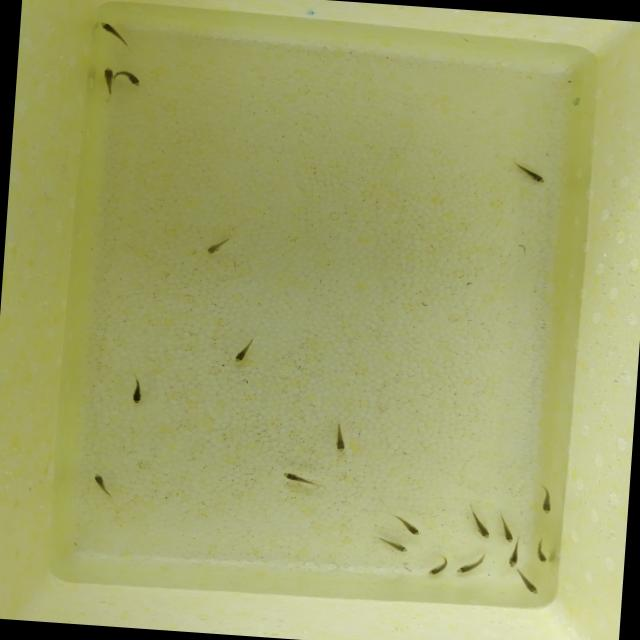fingerling: (449, 549, 493, 576), (98, 18, 136, 48), (508, 162, 552, 185), (280, 468, 322, 492), (230, 334, 256, 368), (202, 232, 235, 258), (422, 551, 450, 579), (514, 571, 542, 599), (392, 515, 426, 538), (332, 420, 352, 457), (468, 508, 491, 540), (126, 374, 148, 406), (538, 483, 557, 516), (501, 508, 517, 546), (504, 536, 522, 569), (531, 538, 552, 566), (373, 537, 411, 552), (125, 70, 148, 88), (89, 471, 107, 493), (101, 66, 113, 96)
